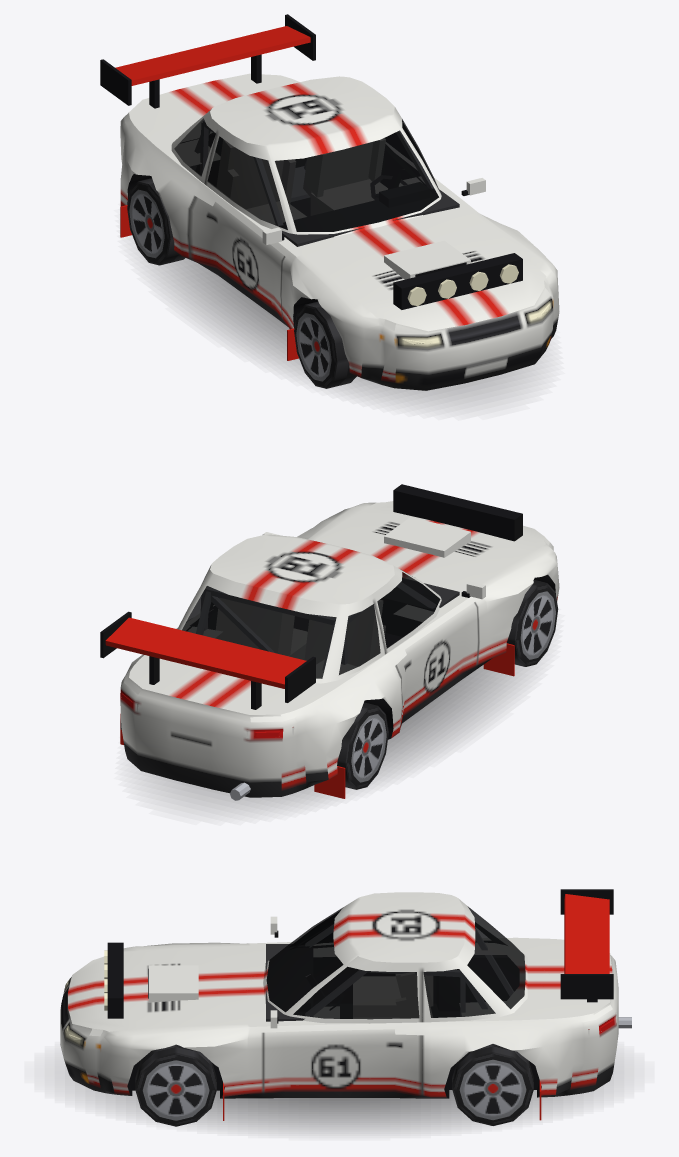
Rendered from redemoinho.glb.
3 renders of one model, top to bottom at view 1: azimuth 30°, elevation 25°; view 2: azimuth 150°, elevation 25°; view 3: azimuth 270°, elevation 25°, orthographic. The views are drawn at different scales.
Visible parts, largest first — view 1: Carroceria, Capo_malha, Interior, Porta_D_malha, Sombra, Tampa_malha, Roda_DD, Roda_TD, Porta_E_malha; view 2: Carroceria, Capo_malha, Tampa_malha, Interior, Porta_D_malha, Sombra, Roda_TD, Roda_DD; view 3: Carroceria, Porta_E_malha, Capo_malha, Interior, Sombra, Tampa_malha, Roda_DE, Roda_TE, Porta_D_malha.
Part boxes in pixels (box(x1,y1,x2,y2)): Carroceria: box(100, 14, 559, 390); Capo_malha: box(304, 214, 549, 330); Interior: box(183, 121, 459, 246); Porta_D_malha: box(189, 125, 292, 317); Sombra: box(151, 258, 534, 405); Tampa_malha: box(115, 26, 310, 134); Roda_DD: box(294, 301, 356, 388); Roda_TD: box(127, 178, 185, 265); Porta_E_malha: box(385, 107, 485, 196); Carroceria: box(100, 502, 559, 800); Capo_malha: box(314, 484, 549, 587); Tampa_malha: box(105, 617, 315, 722); Interior: box(187, 578, 459, 669); Porta_D_malha: box(372, 566, 485, 726); Sombra: box(144, 665, 527, 810); Roda_TD: box(337, 702, 388, 789); Roda_DD: box(506, 580, 558, 666); Carroceria: box(60, 889, 631, 1120); Porta_E_malha: box(263, 956, 421, 1095); Capo_malha: box(73, 942, 247, 1036); Interior: box(266, 922, 518, 1021); Sombra: box(65, 1065, 613, 1131); Tampa_malha: box(543, 894, 612, 1022); Roda_DE: box(135, 1044, 216, 1126); Roda_TE: box(452, 1044, 533, 1125); Porta_D_malha: box(270, 911, 339, 946).
Size of the model in its own units: 2.52 by 1.26 by 4.93.
14 materials, 5 textured.
